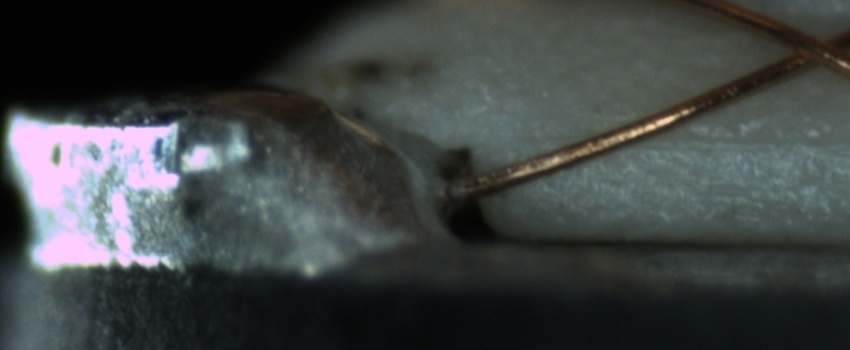CL: (766, 16, 847, 79)
DL: (546, 110, 849, 172)
